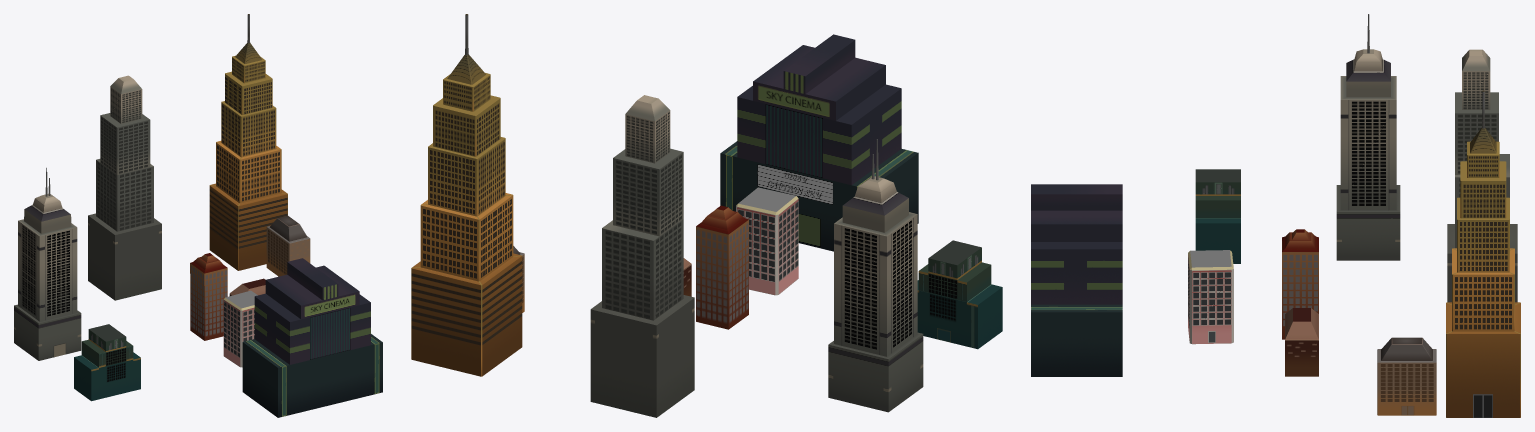
Rendered from Builds(1-9).fbx.
3 views of the same model, side by side, from view 1: azimuth 30°, elevation 25°; view 2: azimuth 150°, elevation 25°; view 3: azimuth 270°, elevation 25° (orthographic). The views are drawn at different scales.
Visible parts, largest first — view 1: Build_8, Build_4, Build_5, Build_9, Build_7, Build_1, Build_3, Build_2, Build_6; view 2: Build_4, Build_8, Build_5, Build_9, Build_7, Build_1, Build_2; view 3: Build_8, Build_4, Build_9, Build_5, Build_3, Build_2, Build_7, Build_1, Build_6.
Part boxes in pixels (bbox=[...]): Build_8: bbox=[242, 258, 382, 417]; Build_4: bbox=[209, 14, 287, 270]; Build_5: bbox=[88, 75, 161, 300]; Build_9: bbox=[14, 167, 81, 360]; Build_7: bbox=[74, 324, 140, 401]; Build_1: bbox=[190, 253, 227, 340]; Build_3: bbox=[266, 215, 310, 276]; Build_2: bbox=[223, 290, 257, 367]; Build_6: bbox=[229, 278, 265, 295]; Build_4: bbox=[411, 14, 522, 376]; Build_8: bbox=[720, 34, 918, 251]; Build_5: bbox=[590, 95, 694, 417]; Build_9: bbox=[828, 139, 923, 412]; Build_7: bbox=[917, 240, 1002, 349]; Build_1: bbox=[696, 205, 748, 329]; Build_2: bbox=[736, 187, 798, 295]; Build_8: bbox=[1031, 184, 1122, 376]; Build_4: bbox=[1446, 90, 1520, 417]; Build_9: bbox=[1336, 14, 1400, 260]; Build_5: bbox=[1447, 49, 1517, 302]; Build_3: bbox=[1377, 337, 1436, 415]; Build_2: bbox=[1188, 250, 1233, 344]; Build_7: bbox=[1195, 169, 1240, 263]; Build_1: bbox=[1282, 229, 1318, 339]; Build_6: bbox=[1285, 308, 1318, 376].
Bounding box in the file's own units: 6424 × 5032 × 7166.
9 materials, 9 textured.
